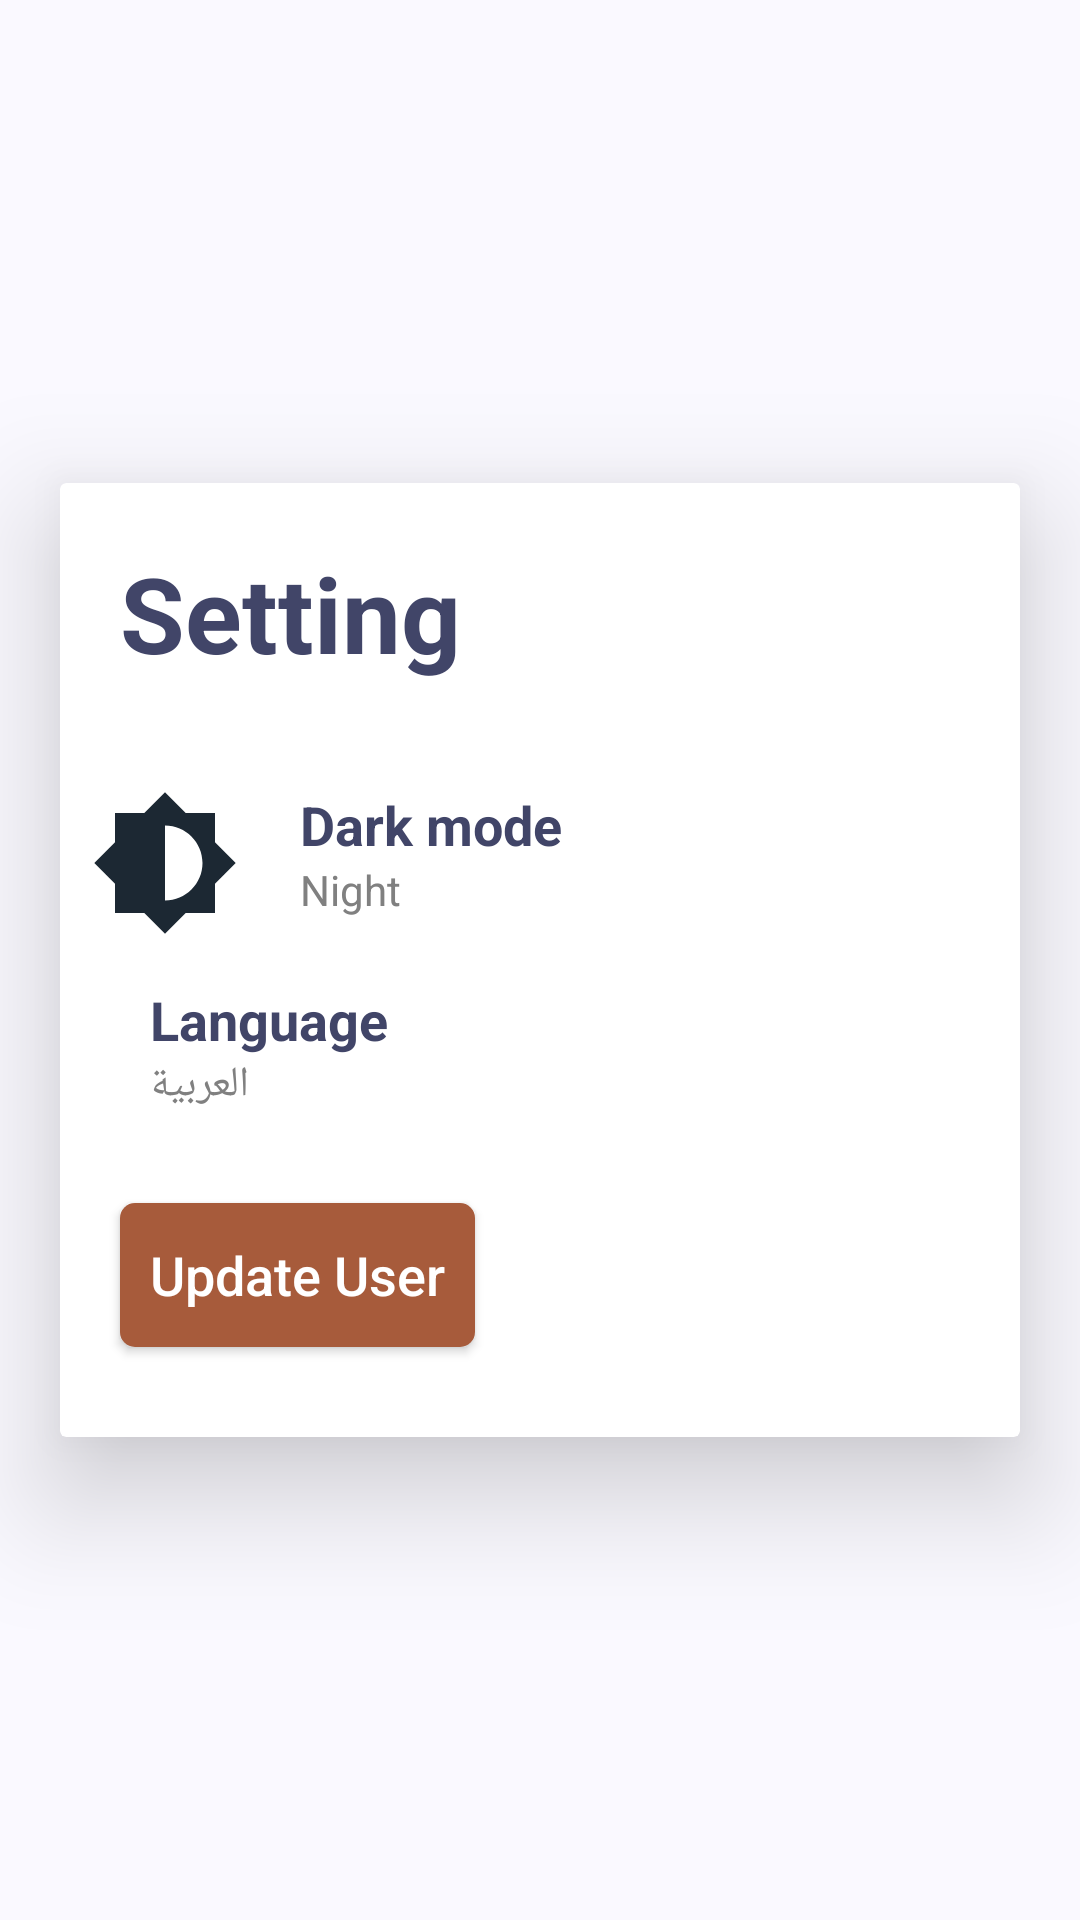

Locate icon controls on the screen. Image size 1080 × 1920, boxes as (x1, y1, x2, y2).
theme: (94, 792, 236, 934)
